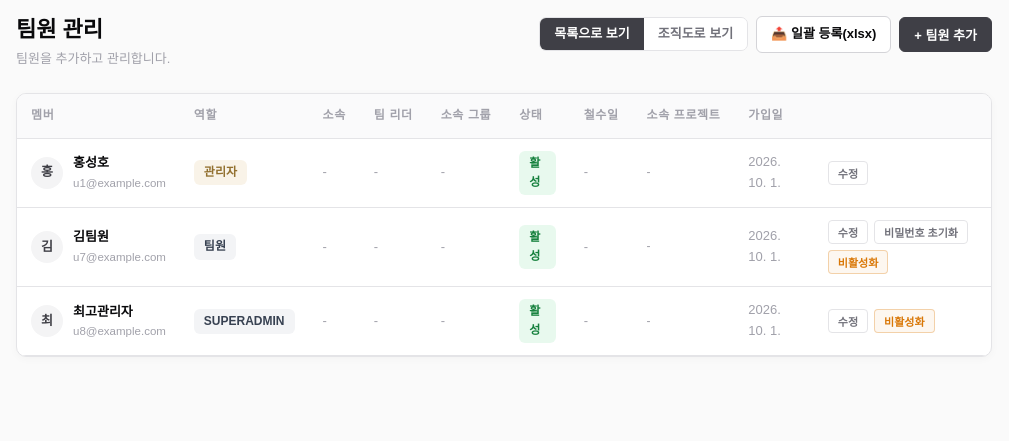
팀원 관리 — 비밀번호 초기화 (HF-000059) › 실패하면 서버 메시지를 보여주고 모달은 열지 않는다
The width and height of the screenshot is (1009, 441).
Step 1. Click the button "비밀번호 초기화" → (921, 232), box [874, 220, 968, 244]
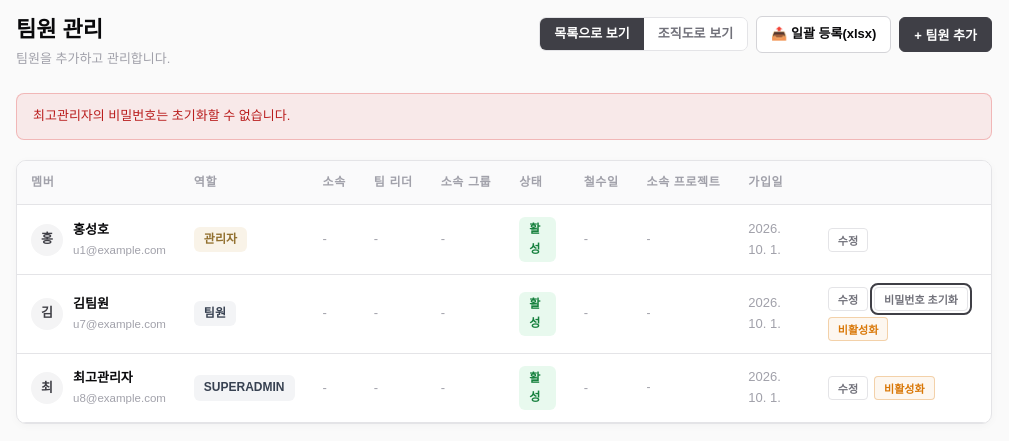
Now the text "최고관리자의 비밀번호는 초기화할 수 없습니다." is shown, box [16, 93, 992, 140]
